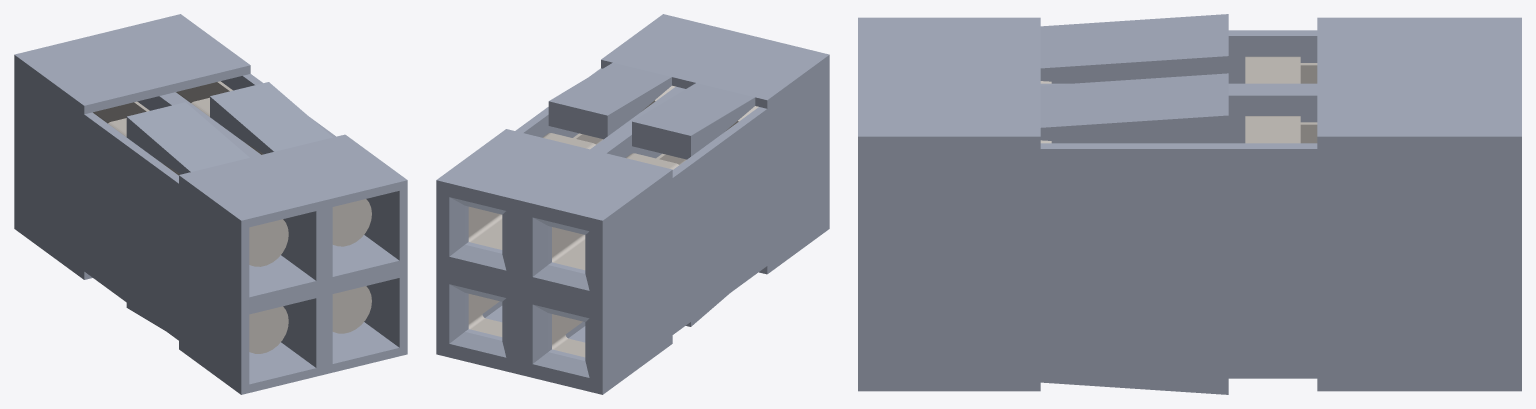
3 views of the same model, side by side, from view 1: azimuth 30°, elevation 25°; view 2: azimuth 150°, elevation 25°; view 3: azimuth 270°, elevation 25° (orthographic). The views are drawn at different scales.
Visible parts, largest first — view 1: DS1071-2x2; view 2: DS1071-2x2; view 3: DS1071-2x2.
Part boxes in pixels (box(x1,y1,x2,y2)): DS1071-2x2: box(14, 14, 407, 394); DS1071-2x2: box(436, 14, 829, 394); DS1071-2x2: box(858, 14, 1521, 394).
Bounding box in the file's own units: 0.0102 × 0.0112 × 0.024.
